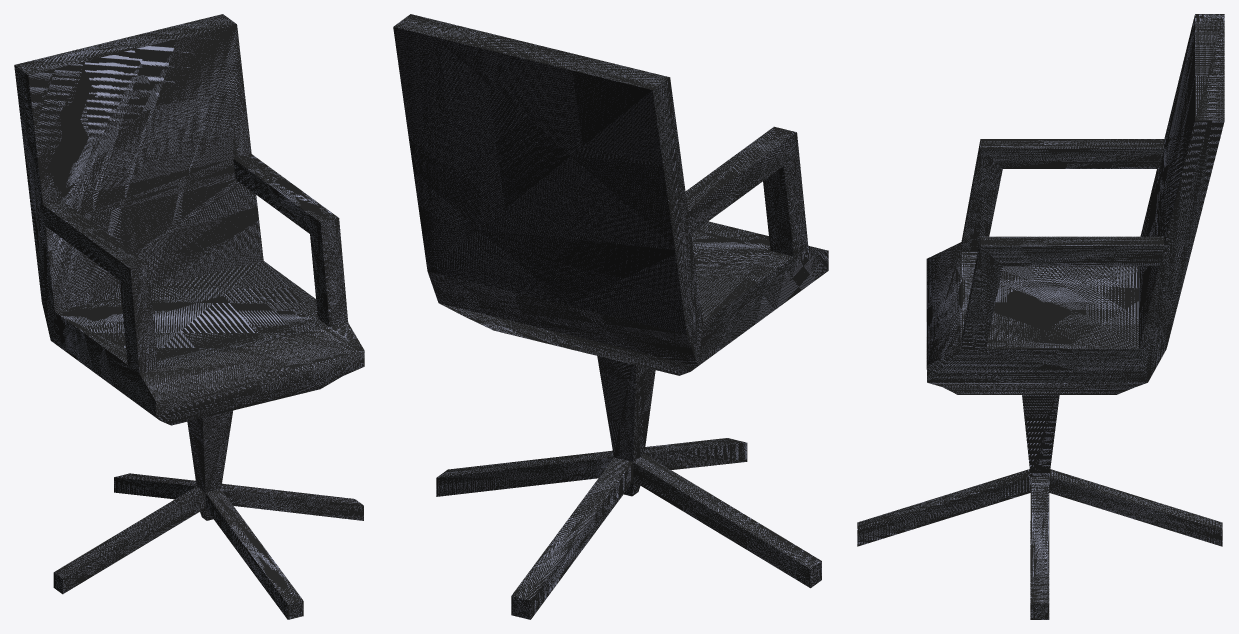
3 renders of one model, left to right at view 1: azimuth 30°, elevation 25°; view 2: azimuth 150°, elevation 25°; view 3: azimuth 270°, elevation 25°, orthographic. The views are drawn at different scales.
Visible parts, largest first — view 1: SketchUp (×2); view 2: SketchUp (×2); view 3: SketchUp (×2).
Part boxes in pixels (bbox=[...]): SketchUp (×2): bbox=[14, 14, 364, 619]; SketchUp (×2): bbox=[393, 14, 828, 619]; SketchUp (×2): bbox=[857, 14, 1224, 619].
Size of the model in its own units: 41.41 by 41.63 by 59.27.
